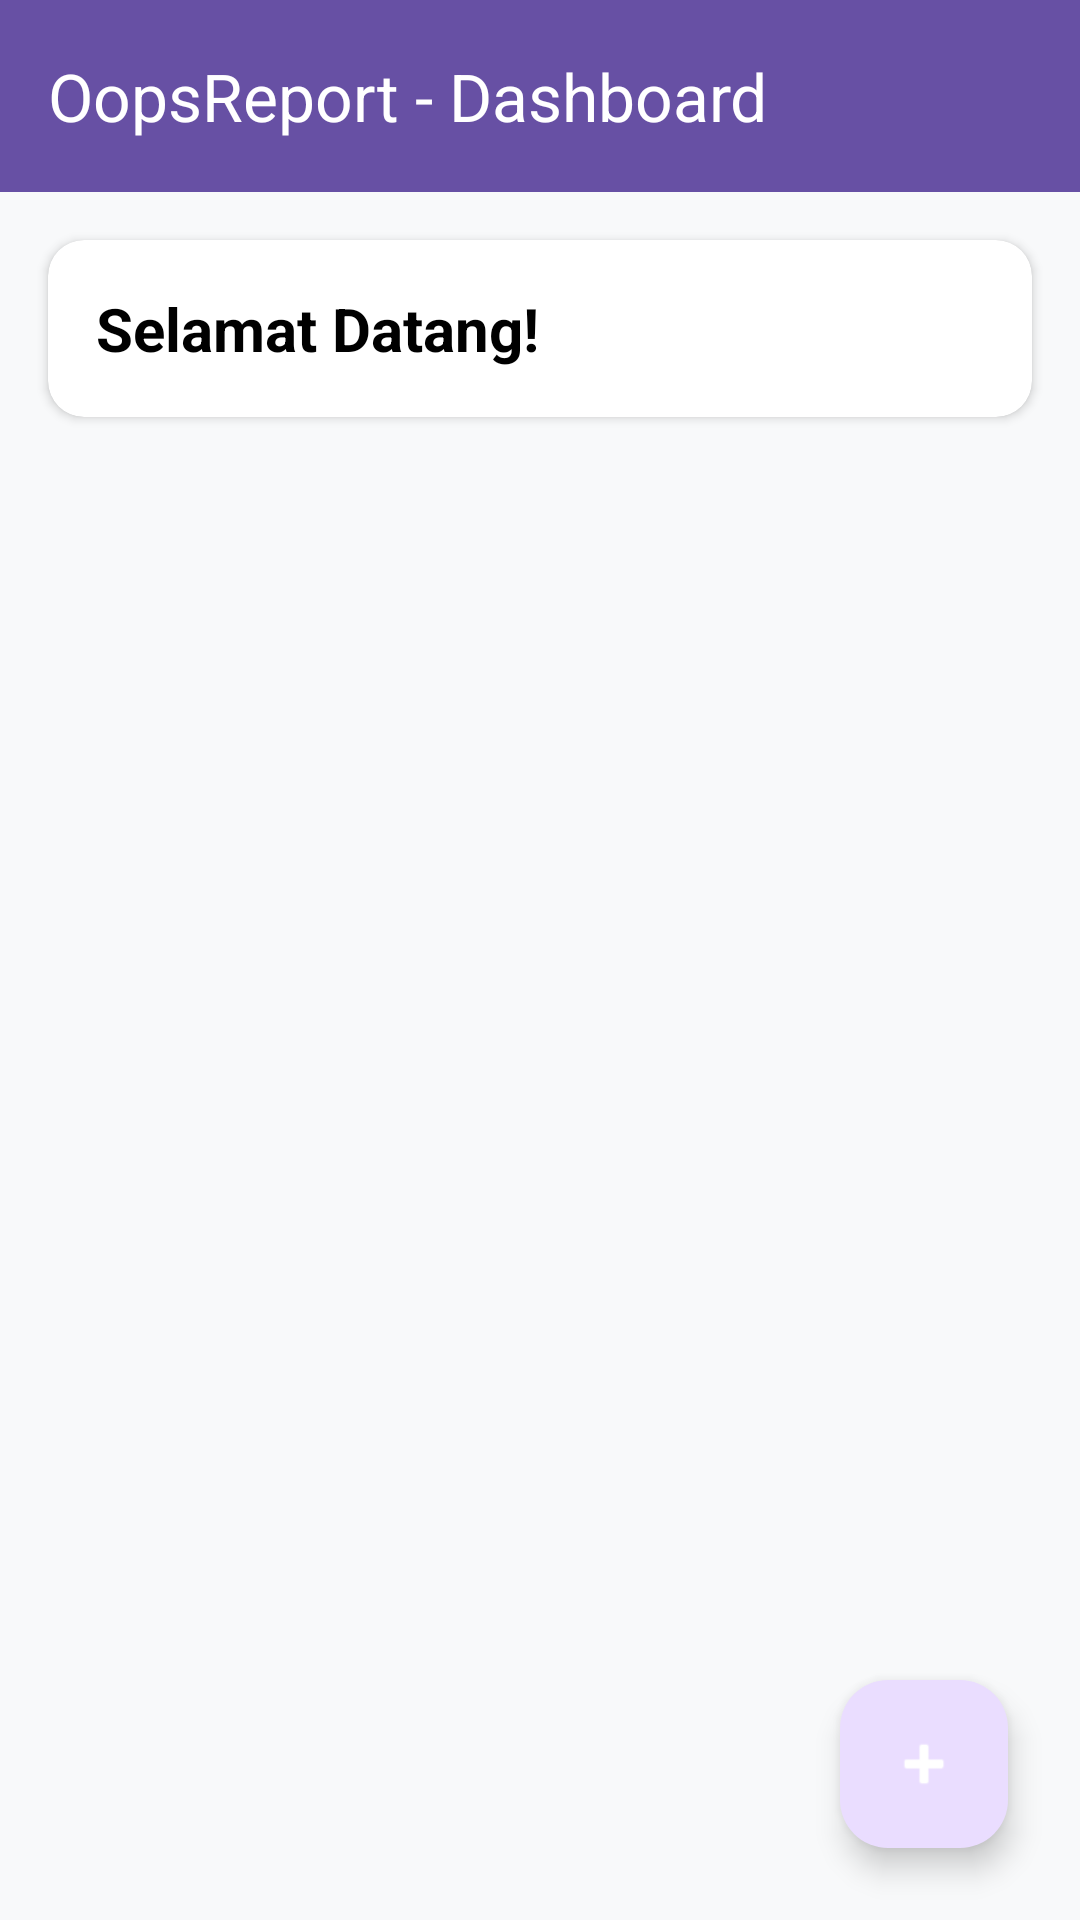

Icons on this 1080 x 1920 Android screen, each with the point to tap as point (x, y):
Buat Laporan Baru: point (924, 1764)
